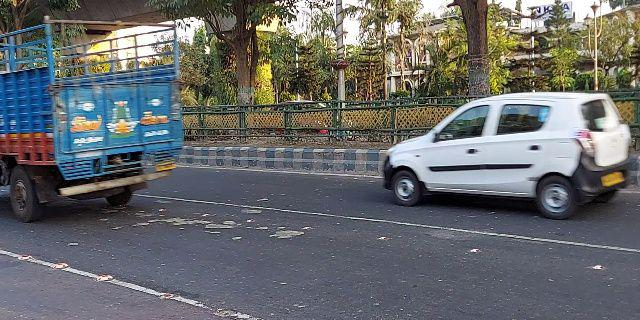Car: (373, 89, 633, 222)
Minitruck: (1, 17, 181, 211)
